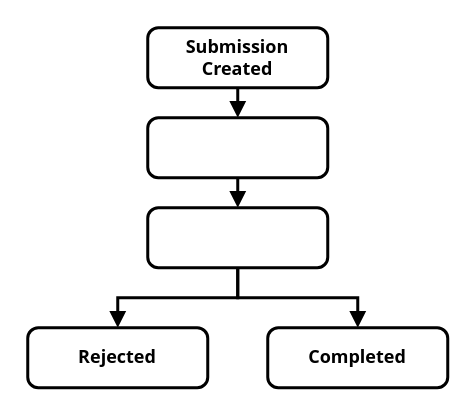
Image size: 474x414. Some labels were removed from this diagram. The shapes that lost their labels are listed below. From the top down, each one's box as (x1, y1, x2, y2) in pixels, then its label:
(146, 116, 328, 178): Accepted
(146, 206, 328, 268): Processing
